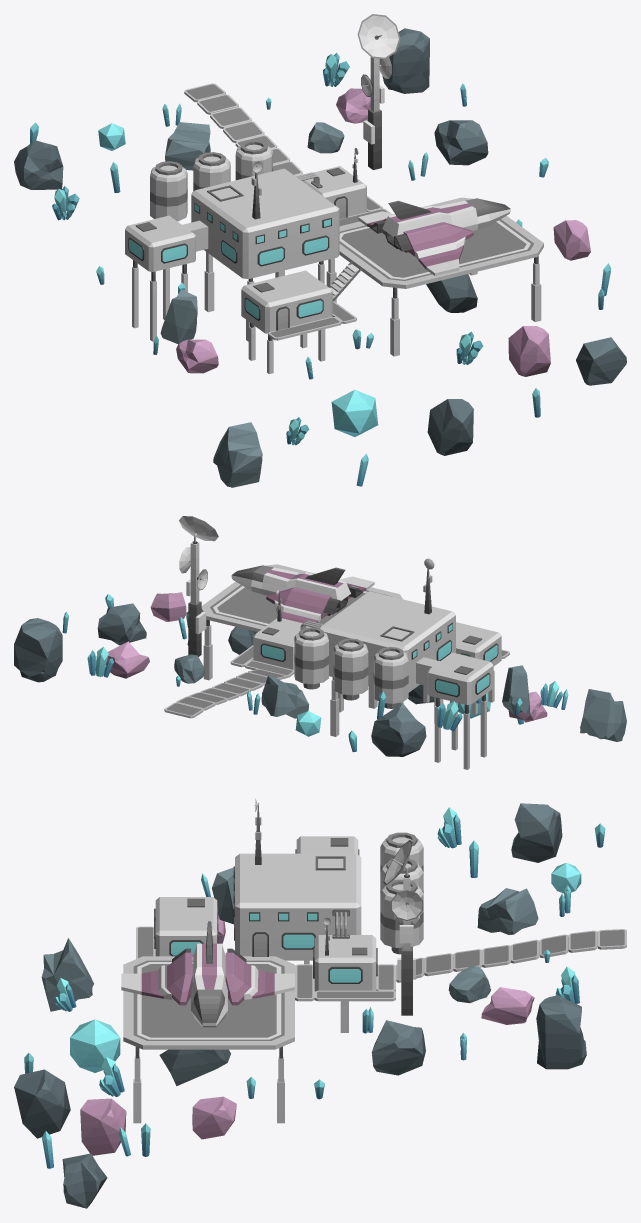
Rendered from field_19.glb.
3 views of the same model, one above another, from view 1: azimuth 30°, elevation 25°; view 2: azimuth 150°, elevation 25°; view 3: azimuth 270°, elevation 25° (orthographic). The views are drawn at different scales.
Parts seen in each view (by area): view 1: space station_23, spaceship 2_32, communications tower_0, stone small gray blue 14_5, stone small gray blue 13_24, stone small gray blue 9_37, space tank 2 (2)_20, stone small gray blue 12 (1)_22, stone small gray blue 12_13, stone small purple_3, stone small gray blue 8_51, crystal stone 9 (1)_19 (+9 smaller); view 2: space station_23, spaceship 2_32, stone small gray blue 13_24, communications tower_0, stone small gray blue 12 (1)_22, space tank 2 (1)_11, space tank 2_25, space tank 2 (2)_20, stone small gray blue 14_5, stone small gray blue 12_13, stone small gray blue 14 (1)_40, stone small gray blue 10_31 (+10 smaller); view 3: space station_23, spaceship 2_32, stone small gray blue 13_24, communications tower_0, stone small gray blue 9_37, stone small gray blue 12 (1)_22, stone small gray blue 12_13, stone small purple_3, stone small gray blue 14 (1)_40, stone small gray blue 14_5, crystal stone 9 (1)_19, stone small gray blue 8_51 (+17 smaller).
Part boxes in pixels (left/top/right/bottom): space station_23: left=125, top=148, right=543, bottom=373; spaceship 2_32: left=358, top=198, right=510, bottom=275; communications tower_0: left=357, top=14, right=400, bottom=169; stone small gray blue 14_5: left=213, top=422, right=262, bottom=487; stone small gray blue 13_24: left=382, top=28, right=429, bottom=93; stone small gray blue 9_37: left=427, top=399, right=473, bottom=455; space tank 2 (2)_20: left=150, top=161, right=187, bottom=221; stone small gray blue 12 (1)_22: left=14, top=140, right=63, bottom=189; stone small gray blue 12_13: left=434, top=120, right=488, bottom=165; stone small purple_3: left=508, top=326, right=550, bottom=376; stone small gray blue 8_51: left=576, top=337, right=626, bottom=385; crystal stone 9 (1)_19: left=331, top=390, right=378, bottom=436; space station_23: left=201, top=558, right=509, bottom=769; spaceship 2_32: left=231, top=565, right=374, bottom=623; stone small gray blue 13_24: left=14, top=618, right=62, bottom=682; communications tower_0: left=179, top=516, right=218, bottom=656; stone small gray blue 12 (1)_22: left=371, top=703, right=426, bottom=756; space tank 2 (1)_11: left=333, top=638, right=368, bottom=700; space tank 2_25: left=294, top=627, right=328, bottom=689; space tank 2 (2)_20: left=373, top=647, right=408, bottom=708; stone small gray blue 14_5: left=580, top=689, right=626, bottom=741; stone small gray blue 12_13: left=97, top=603, right=146, bottom=645; stone small gray blue 14 (1)_40: left=261, top=675, right=309, bottom=718; stone small gray blue 10_31: left=502, top=665, right=529, bottom=714; space station_23: left=123, top=798, right=395, bottom=1123; spaceship 2_32: left=121, top=921, right=294, bottom=1027; stone small gray blue 13_24: left=536, top=995, right=586, bottom=1069; communications tower_0: left=383, top=840, right=423, bottom=1015; stone small gray blue 9_37: left=14, top=1069, right=70, bottom=1138; stone small gray blue 12 (1)_22: left=511, top=803, right=562, bottom=862; stone small gray blue 12_13: left=371, top=1020, right=425, bottom=1075; stone small purple_3: left=80, top=1098, right=126, bottom=1155; stone small gray blue 14 (1)_40: left=477, top=888, right=538, bottom=934; stone small gray blue 14_5: left=41, top=938, right=93, bottom=1011; crystal stone 9 (1)_19: left=70, top=1019, right=120, bottom=1072; stone small gray blue 8_51: left=62, top=1153, right=107, bottom=1208.
Bounding box in the file's own units: 20.82 × 13.38 × 21.73.
Materials: 1 (1 with a texture image).
